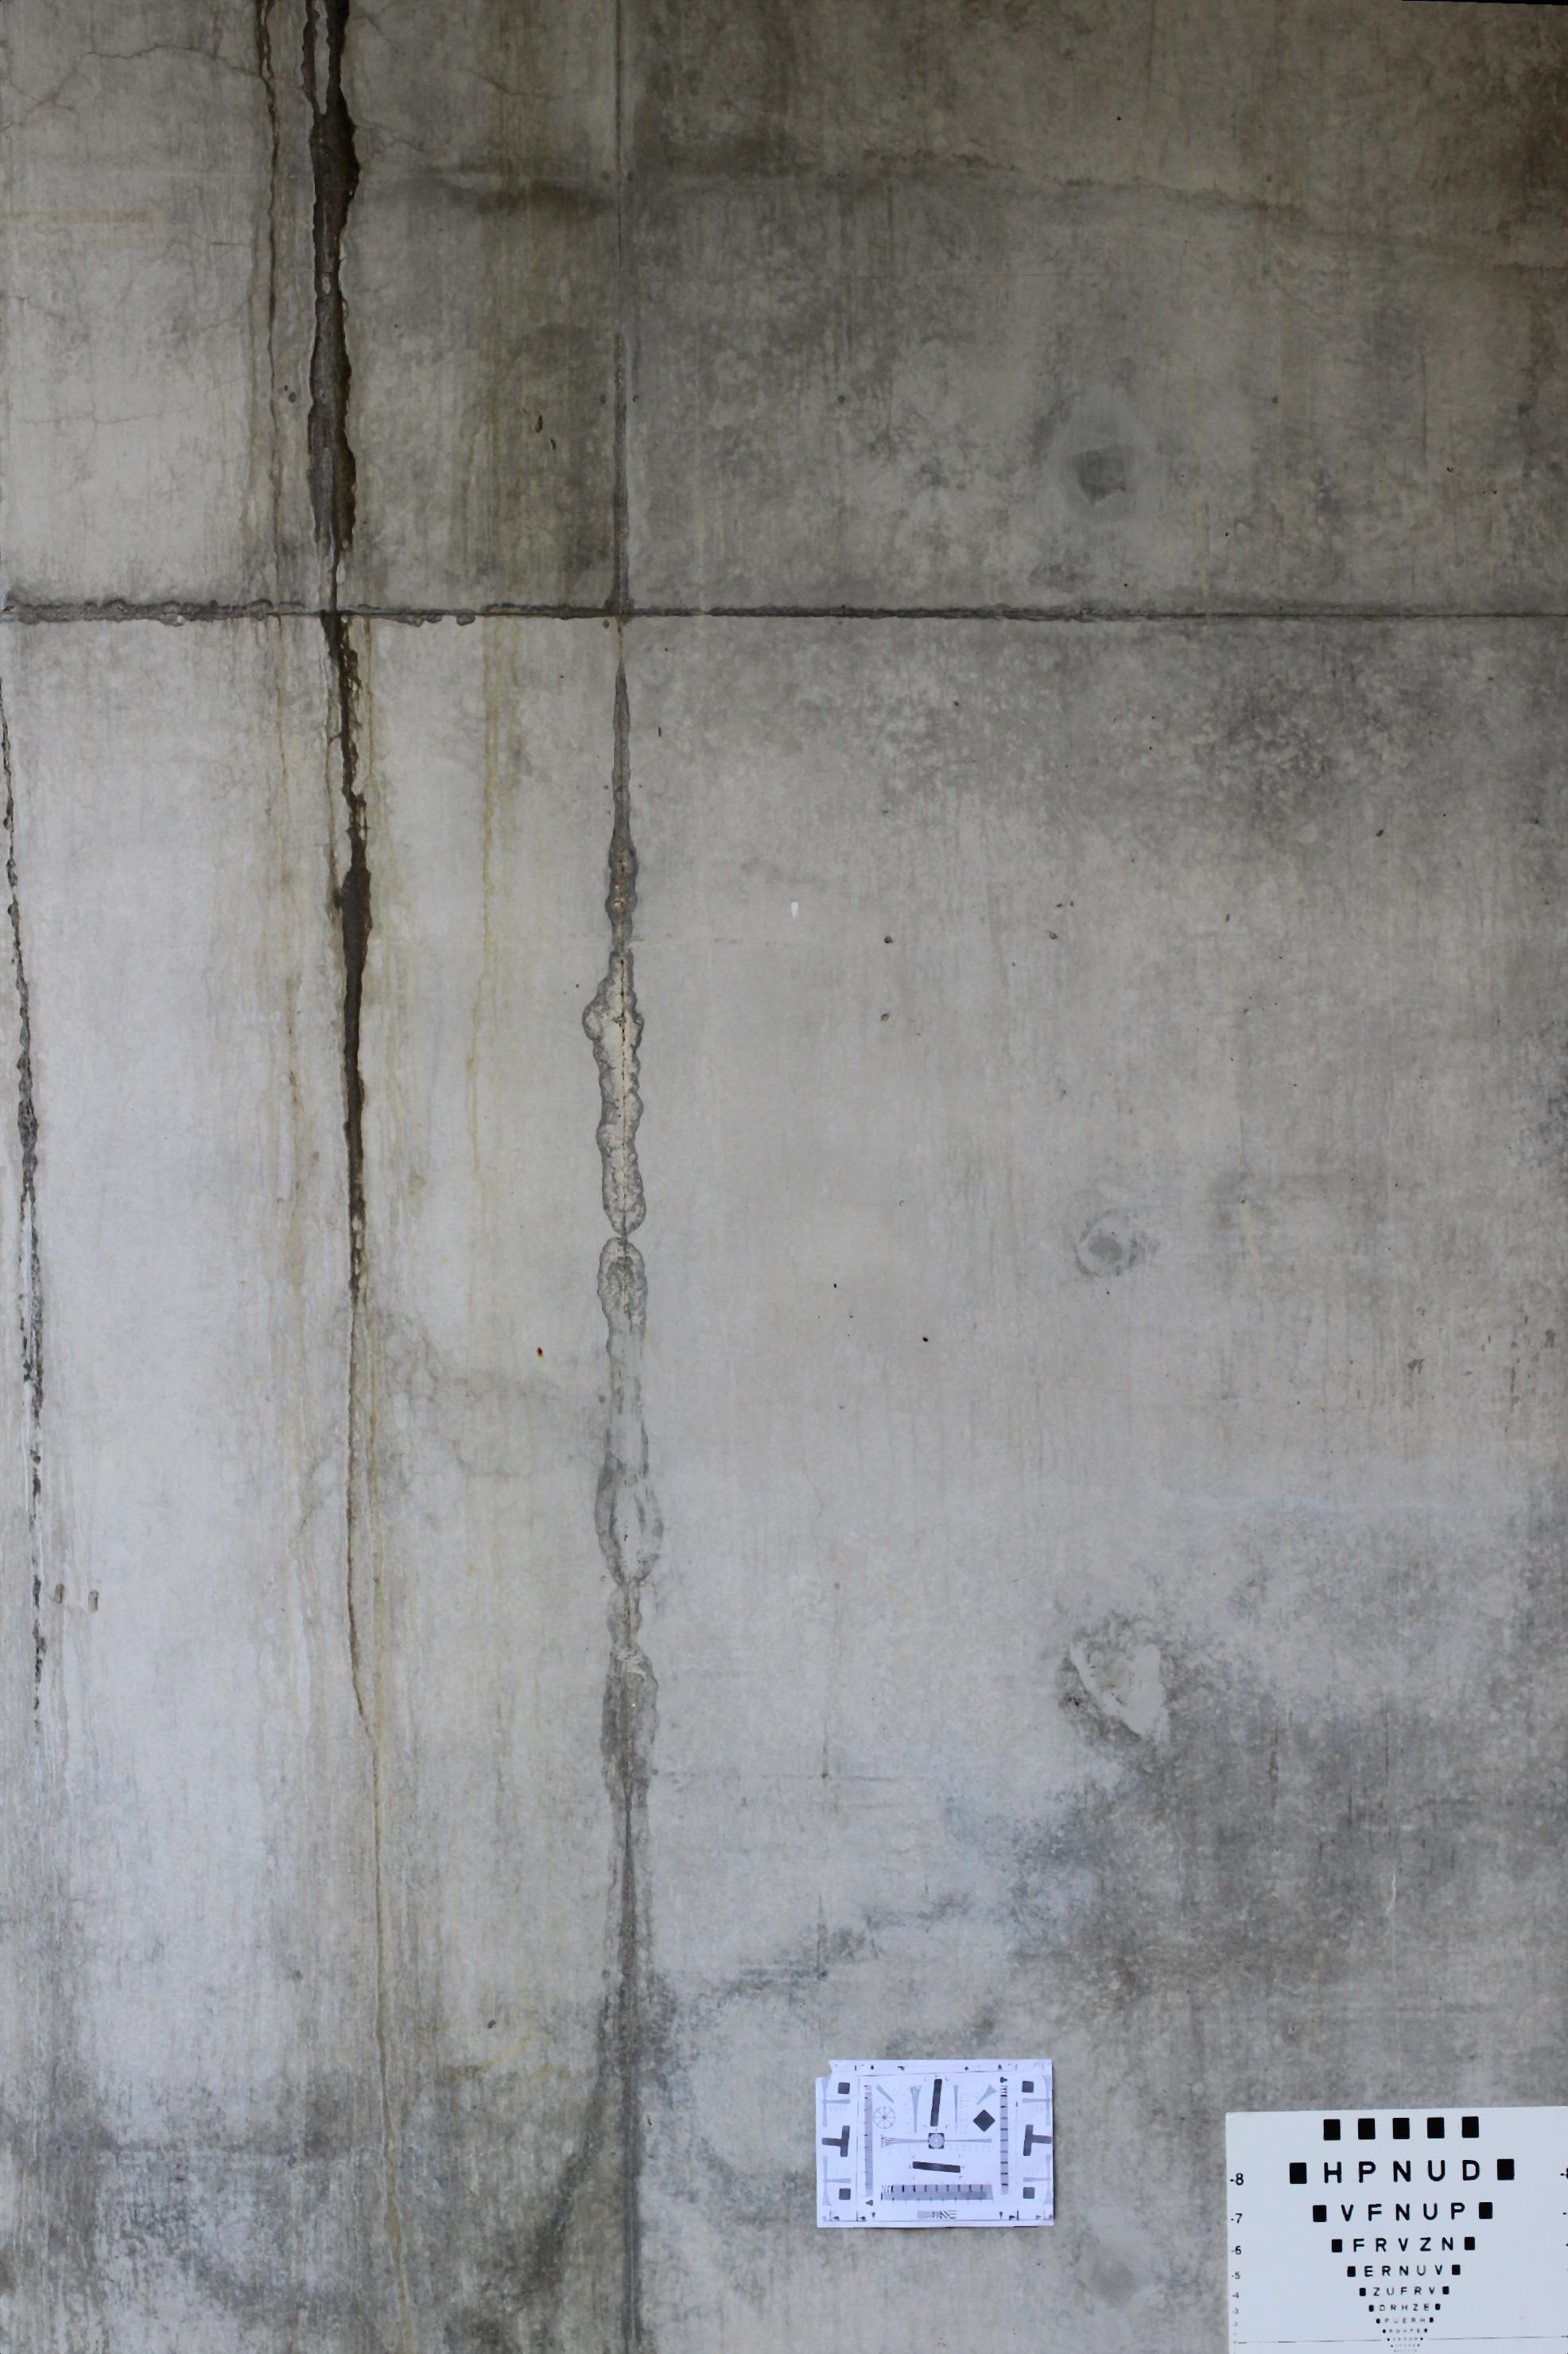Corrosion: (252, 0, 380, 1736)
Crack: (0, 700, 44, 1740)
Spalling: (583, 319, 670, 2354)
